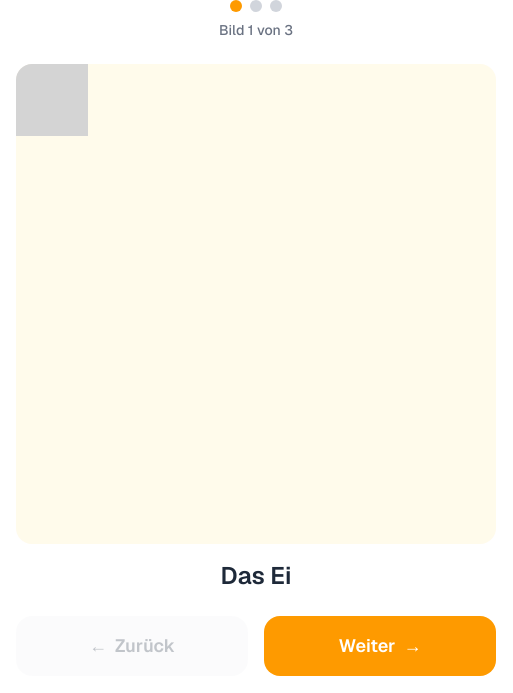
SequenceViewer › navigates forward on next button click
Click the button labelled "Weiter →": click(380, 646) top-left (264, 616), bottom-right (496, 676)
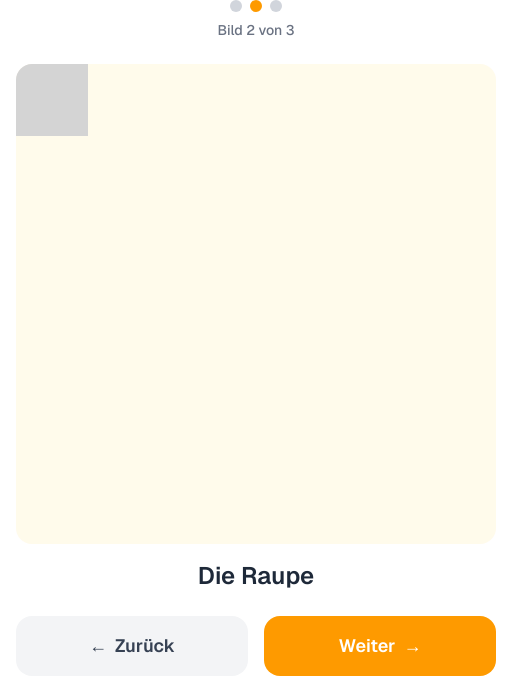
Now the text "Die Raupe" is shown, box top-left (198, 560), bottom-right (314, 592)
